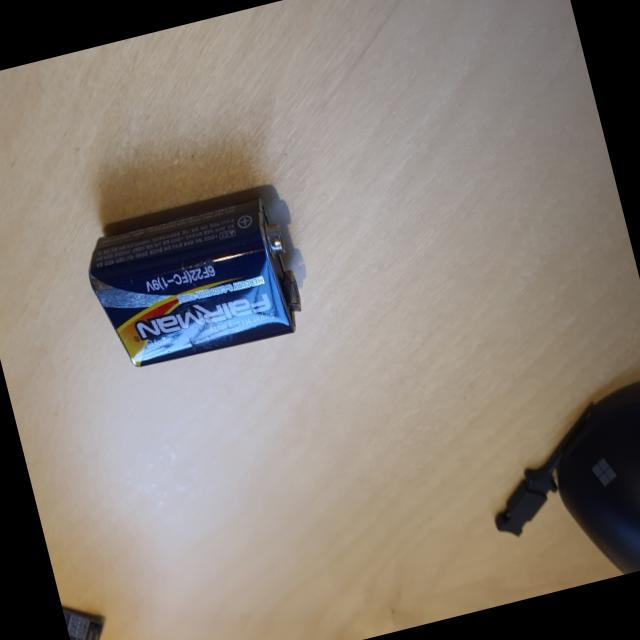battery-etc-etc: (69, 170, 324, 388)
